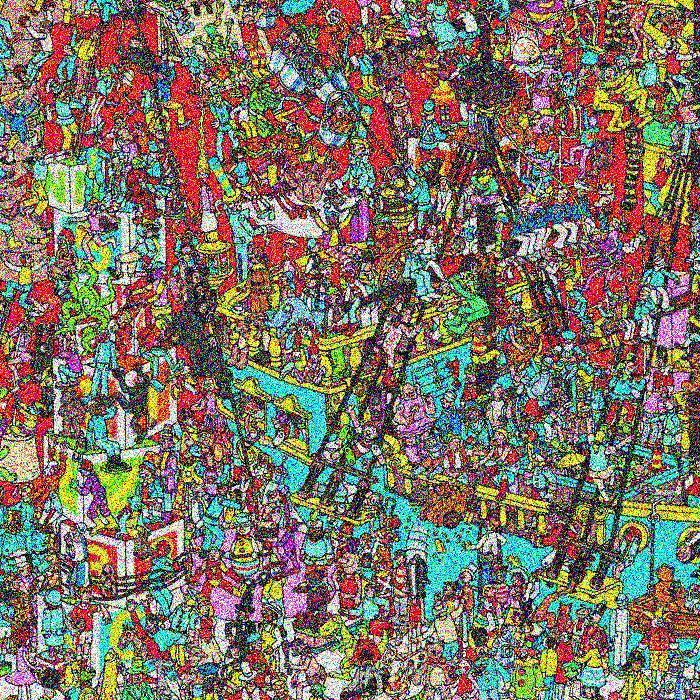waldos: (194, 421, 215, 456)
